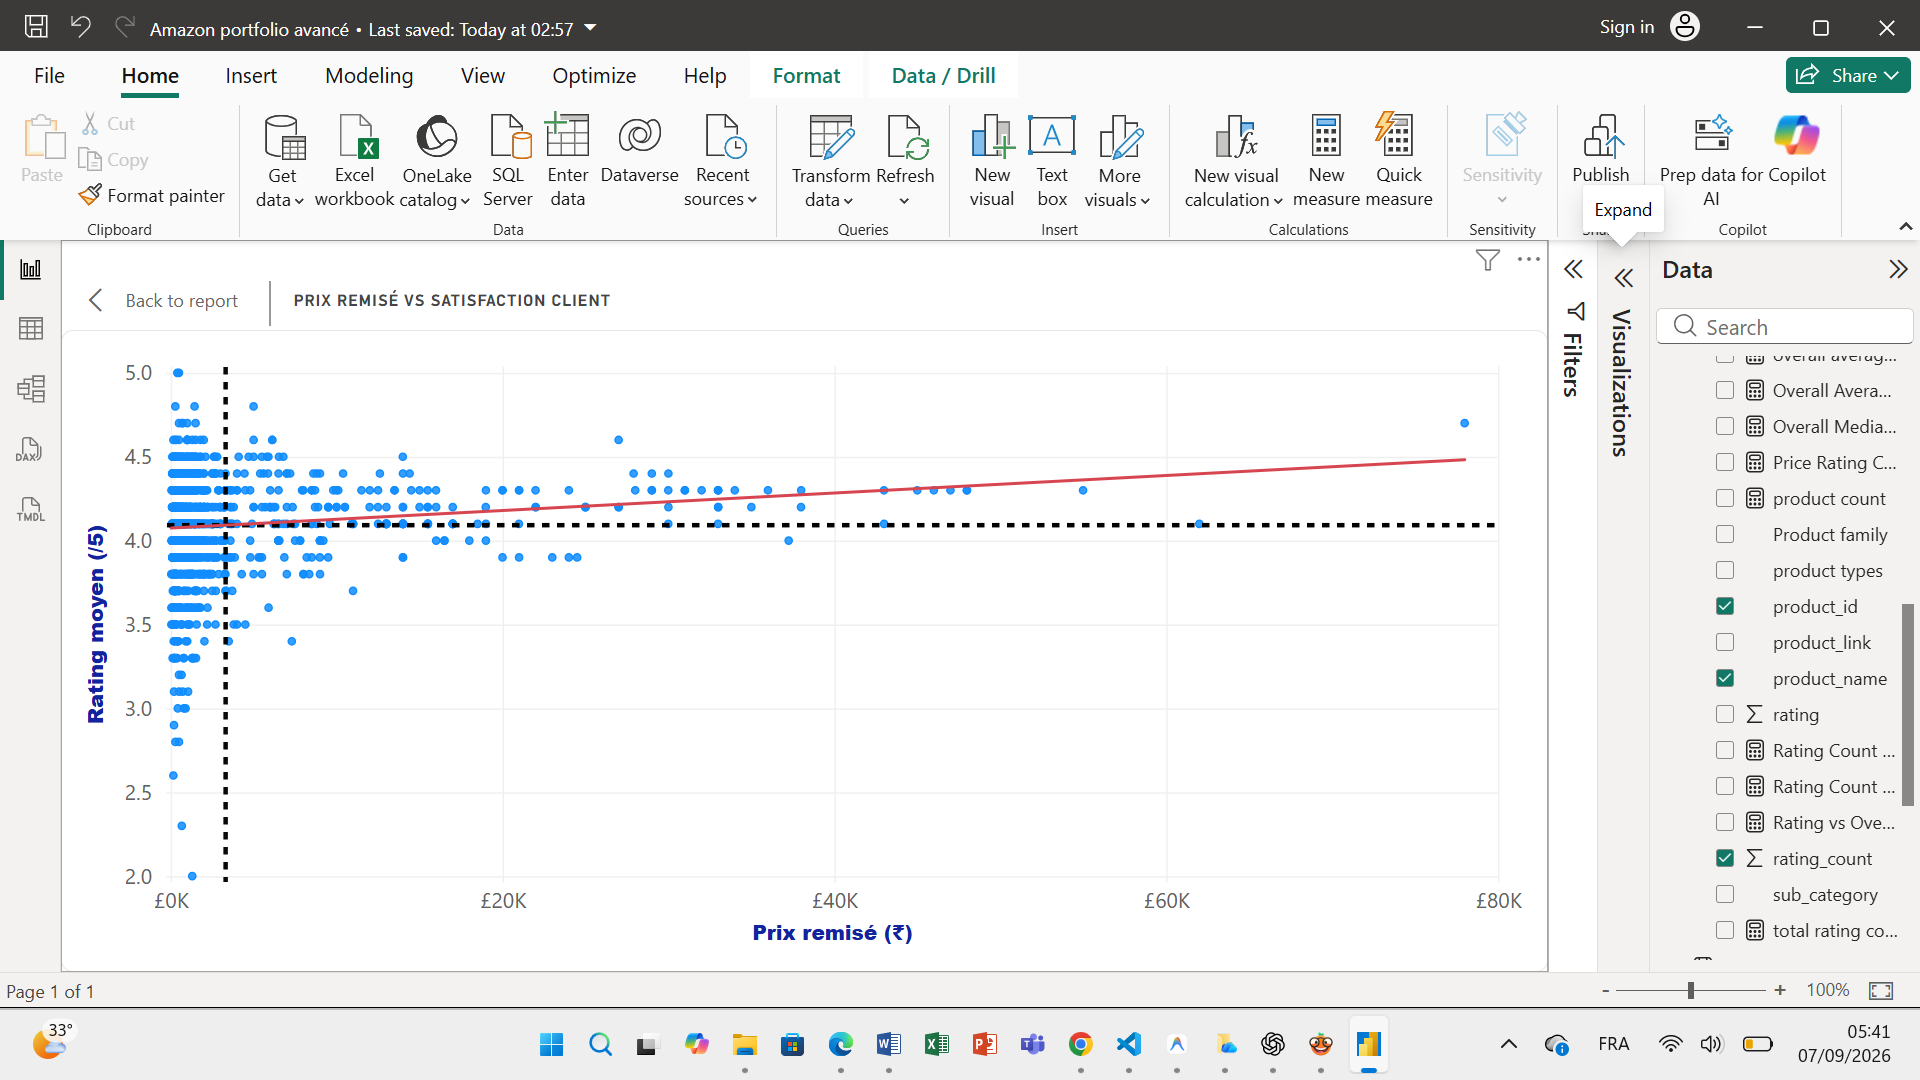

The dashboard page shown, as its layout file describes it:
{"tool":"powerbi","page":{"name":"PRICE & CUSTOMER SATISFACTION","canvas":[1920,1080],"ordinal":0},"visuals":[{"type":"scatterChart","title":"Prix remisé vs satisfaction client","fields":{"Category":["Products.product_id"],"X":["Products.average discounted price"],"Y":["Products.average rating"]},"box":[0,78,1470,762],"z":0}]}

Visuals, with their boxes on the page's 1920x1080 design canvas (x1, y1, x2, y2). These are canvas units, not pixel positions in the 1920x1080 screenshot, which may show the page scaled, cropped or inside an application window:
"Prix remisé vs satisfaction client" scatterChart: left=0, top=78, right=1470, bottom=840
